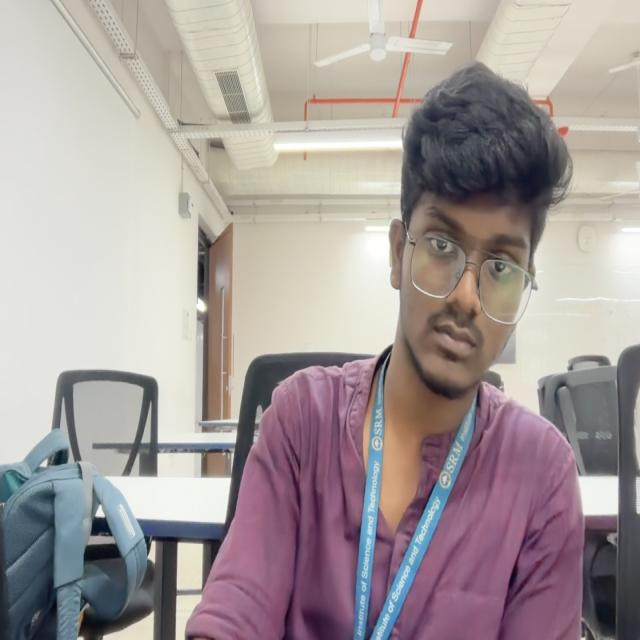ravindra: (384, 70, 568, 400)
